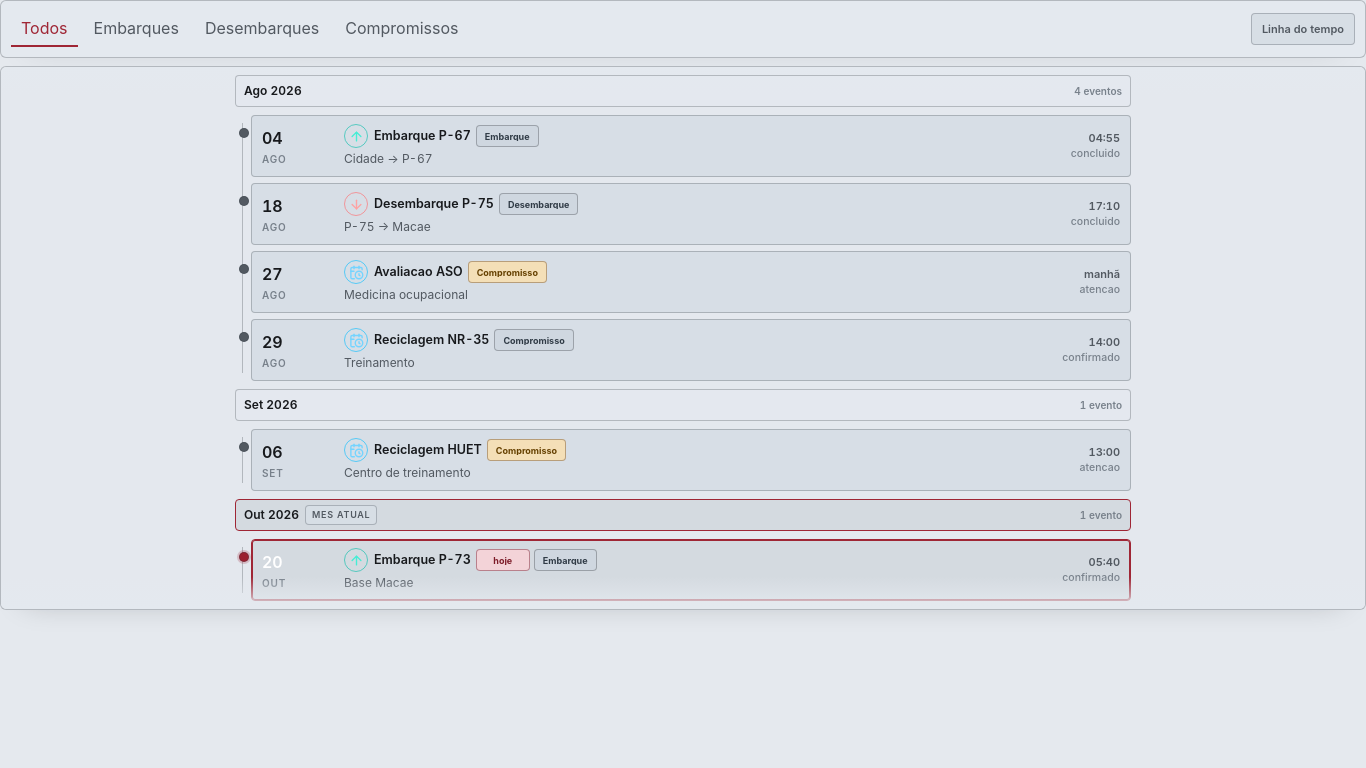
Test: ProgramacaoPage › renders a compact timeline and filters employee events
Expected: the heading "Ago 2026" is shown, top-left (244, 82), bottom-right (302, 100)
Expected: the text "mes atual" is shown, top-left (305, 505), bottom-right (377, 525)
Click the button "Desembarques": {"x": 262, "y": 29} top-left (195, 11), bottom-right (329, 47)
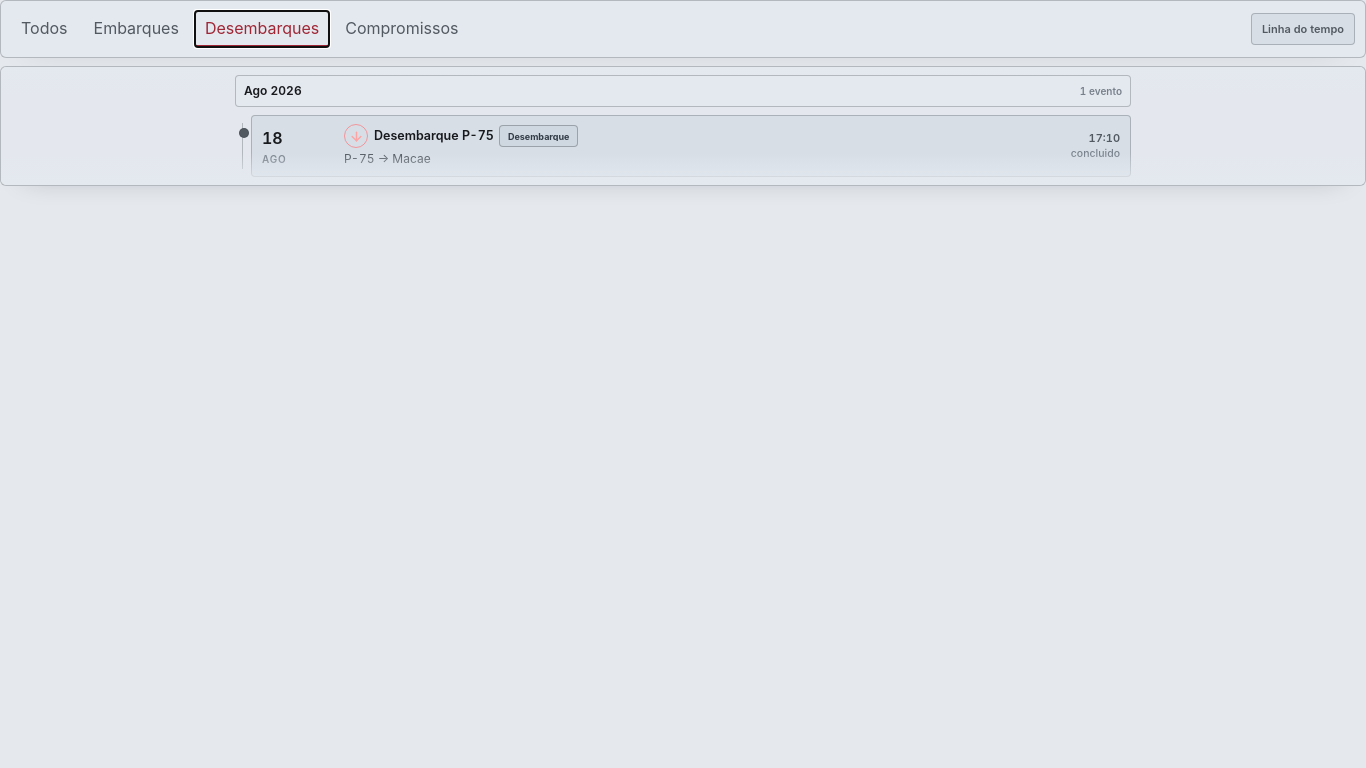
Expected: the text "Desembarque P-75" is shown, top-left (374, 127), bottom-right (494, 145)
Expected: the text "1 evento" is shown, top-left (1080, 84), bottom-right (1122, 98)
Expected: the text "Embarque P-73" is gone
